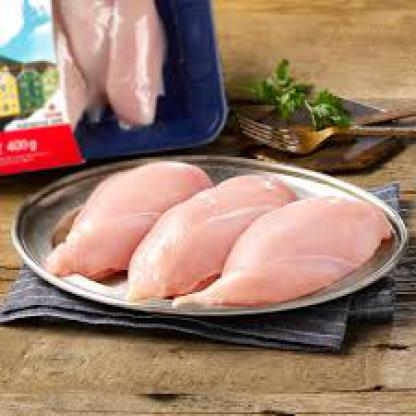chicken: (81, 172, 366, 303)
